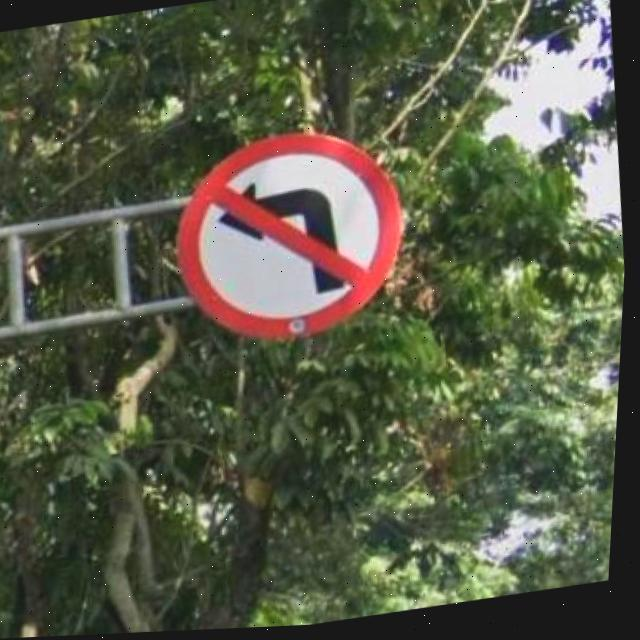Dilarang Belok Kiri: (173, 127, 416, 352)
